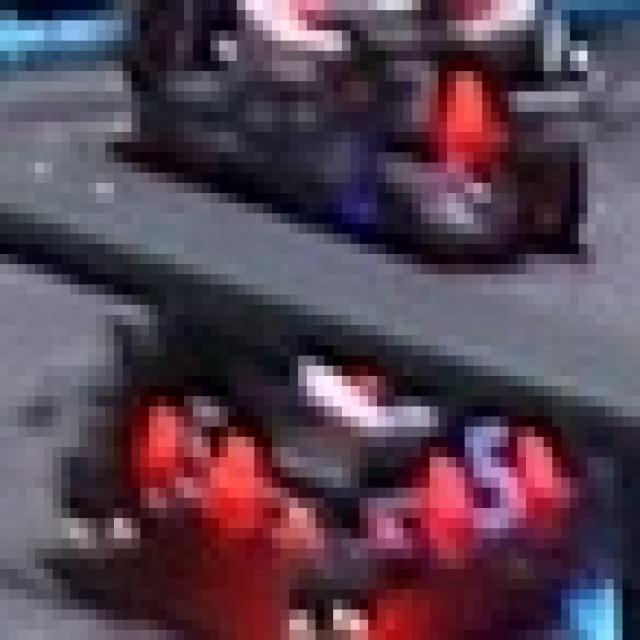R5: (421, 416, 561, 538), (140, 386, 254, 518)
